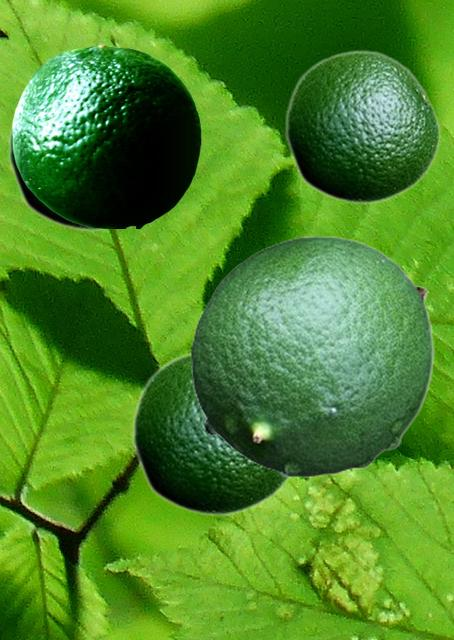calamansi: (190, 235, 433, 476), (12, 43, 200, 227), (131, 349, 293, 516), (284, 49, 440, 204), (7, 101, 122, 231)
